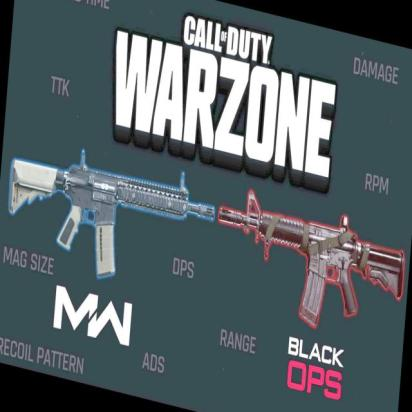Gun: (212, 184, 408, 342)
